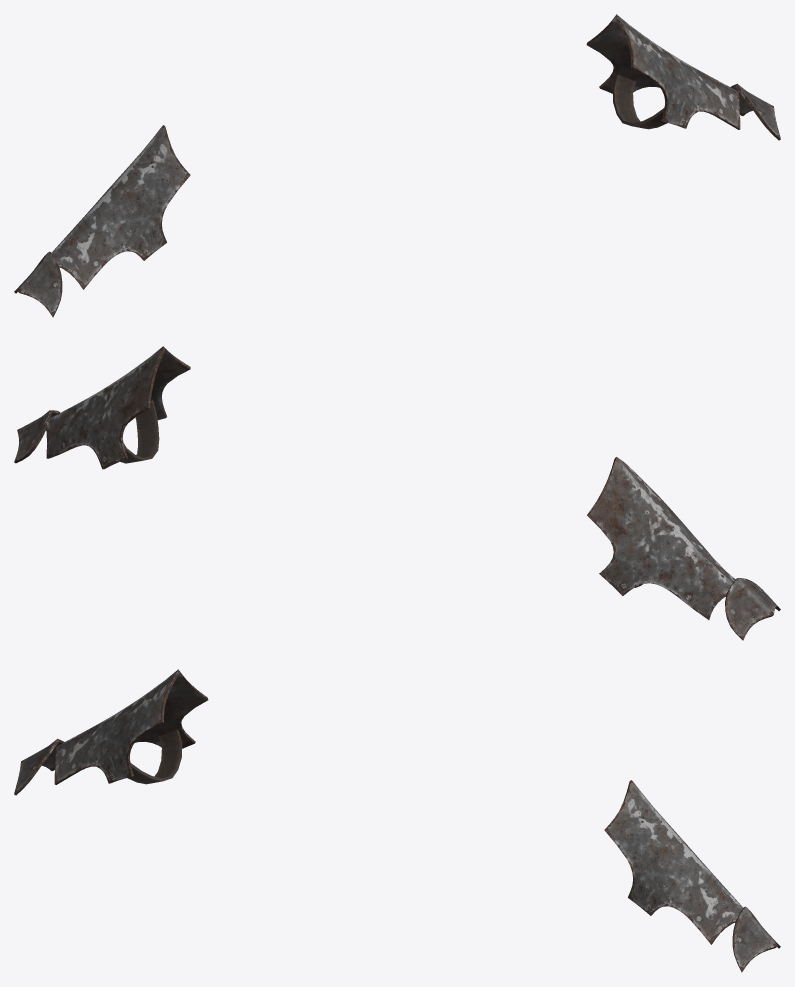
Rendered from sk_gb_uruk_bracer_heavy_b.fbx.
3 views of the same model, one above another, from view 1: azimuth 30°, elevation 25°; view 2: azimuth 150°, elevation 25°; view 3: azimuth 330°, elevation 25° (orthographic).
Visible parts, largest first — view 1: sk_gb_uruk_bracer_heavy_b; view 2: sk_gb_uruk_bracer_heavy_b; view 3: sk_gb_uruk_bracer_heavy_b.
Boxes of the visible parts, x1=… form: sk_gb_uruk_bracer_heavy_b: x1=14, y1=14, x2=780, y2=317; sk_gb_uruk_bracer_heavy_b: x1=14, y1=346, x2=780, y2=640; sk_gb_uruk_bracer_heavy_b: x1=14, y1=669, x2=780, y2=972.
Size of the model in its own units: 1.52 by 0.1888 by 0.2747.
1 material, 1 textured.
